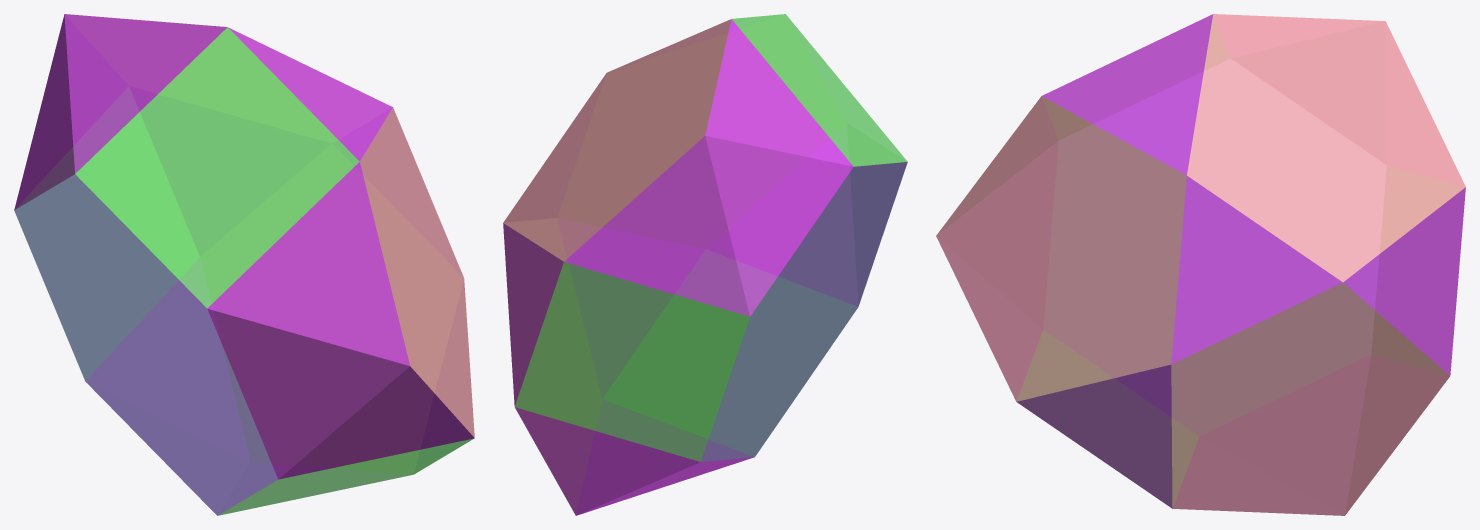
Rendered from j92_triangular_hebesphenorotunda.obj.
The picture shows the model from 3 angles, left to right: view 1: azimuth 30°, elevation 25°; view 2: azimuth 150°, elevation 25°; view 3: azimuth 270°, elevation 25°; orthographic projection. The views are drawn at different scales.
Bounding box in the file's own units: 1.51 × 2.08 × 2.17.
